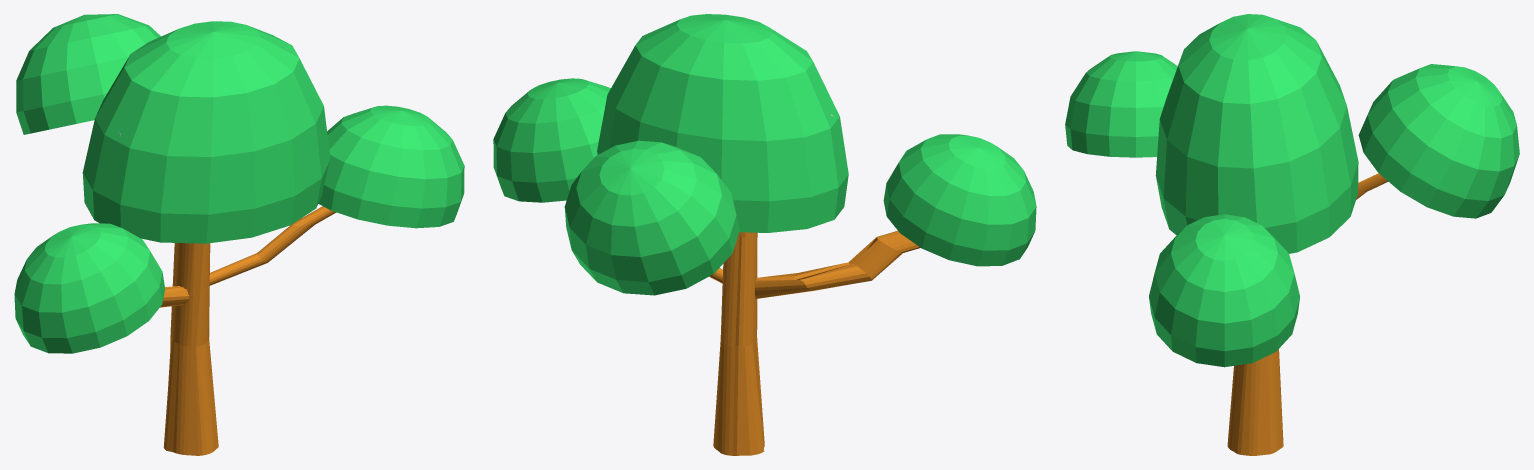
File: POHON2.6.fbx
3 views of the same model, side by side, from view 1: azimuth 30°, elevation 25°; view 2: azimuth 150°, elevation 25°; view 3: azimuth 270°, elevation 25° (orthographic). The views are drawn at different scales.
Parts seen in each view (by area): view 1: Sphere.004, Sphere.003, Sphere.002, Sphere.001, Circle, Circle.003, Circle.002; view 2: Sphere.004, Sphere.001, Sphere.003, Sphere.002, Circle, Circle.002; view 3: Sphere.004, Sphere.001, Sphere.002, Sphere.003, Circle.
Boxes of the visible parts, box(x1,y1,x2,y2) form: Sphere.004: box(82, 21, 330, 243); Sphere.003: box(14, 223, 165, 353); Sphere.002: box(318, 105, 464, 228); Sphere.001: box(16, 14, 160, 134); Circle: box(163, 243, 218, 455); Circle.003: box(209, 206, 336, 285); Circle.002: box(160, 286, 189, 307); Sphere.004: box(597, 14, 848, 232); Sphere.001: box(564, 140, 739, 295); Sphere.003: box(883, 134, 1036, 266); Sphere.002: box(493, 78, 610, 202); Circle: box(713, 232, 764, 455); Circle.002: box(755, 230, 920, 298); Sphere.004: box(1155, 14, 1358, 253); Sphere.001: box(1358, 64, 1519, 218); Sphere.002: box(1149, 214, 1299, 367); Sphere.003: box(1065, 51, 1177, 157); Circle: box(1227, 349, 1283, 455).
Bounding box in the file's own units: 26.22 × 21.61 × 20.94.
